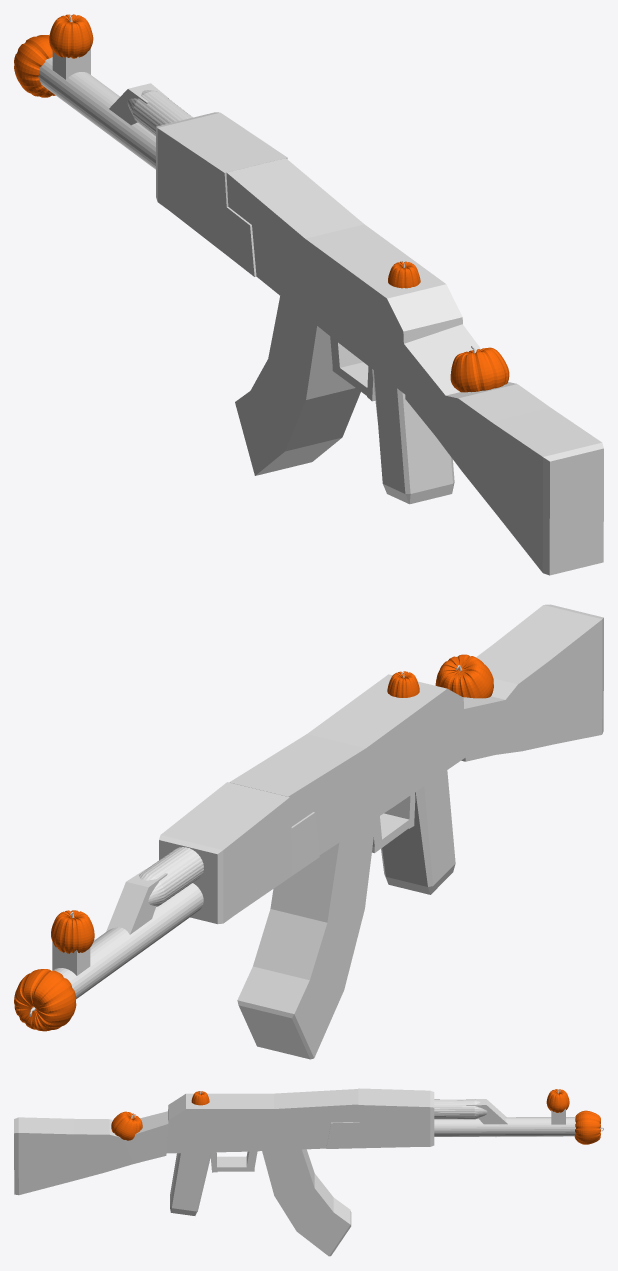
3 renders of one model, top to bottom at view 1: azimuth 30°, elevation 25°; view 2: azimuth 150°, elevation 25°; view 3: azimuth 270°, elevation 25°, orthographic. The views are drawn at different scales.
Parts seen in each view (by area): view 1: Grip, Main, Grip.001, Main.001, Detail.004, Detail.011, Detail.001, Detail, Detail.003, Detail.010, Detail.005, Detail.006 (+1 smaller); view 2: Main, Grip.001, Grip, Main.001, Detail.004, Detail.011, Detail, Detail.010, Detail.001, Detail.005, Detail.003, Detail.006 (+2 smaller); view 3: Main, Grip, Main.001, Grip.001, Detail.011, Detail.004, Detail.010, Detail, Detail.001, Detail.005, Detail.007, Detail.003.
Boxes of the visible parts, box(x1,y1,x2,y2) form: Grip: box(403, 324, 603, 575); Main: box(226, 158, 462, 394); Grip.001: box(235, 296, 360, 475); Main.001: box(156, 112, 287, 276); Detail.004: box(372, 369, 454, 504); Detail.011: box(38, 57, 155, 169); Detail.001: box(450, 346, 509, 392); Detail: box(14, 35, 55, 97); Detail.003: box(49, 14, 93, 58); Detail.010: box(127, 90, 192, 136); Detail.005: box(109, 83, 168, 125); Detail.006: box(52, 48, 90, 79); Main: box(229, 674, 465, 855); Grip.001: box(237, 819, 375, 1059); Grip: box(461, 604, 603, 761); Main.001: box(159, 782, 319, 924); Detail.004: box(381, 770, 455, 894); Detail.011: box(53, 883, 203, 999); Detail: box(14, 969, 76, 1031); Detail.010: box(139, 847, 203, 906); Detail.001: box(435, 654, 493, 698); Detail.005: box(106, 869, 167, 934); Detail.003: box(51, 910, 94, 953); Detail.006: box(52, 942, 90, 975); Main: box(166, 1089, 359, 1153); Grip: box(14, 1111, 168, 1195); Main.001: box(326, 1088, 434, 1148); Grip.001: box(262, 1149, 351, 1256); Detail.011: box(434, 1117, 575, 1136); Detail.004: box(170, 1152, 211, 1215); Detail.010: box(434, 1099, 487, 1119); Detail: box(574, 1110, 603, 1144); Detail.001: box(111, 1111, 142, 1140); Detail.005: box(466, 1099, 507, 1136); Detail.007: box(217, 1156, 254, 1171); Detail.003: box(546, 1089, 569, 1112).
Bounding box in the file's own units: 0.6724 × 2.93 × 9.82.
20 materials, 4 textured.
